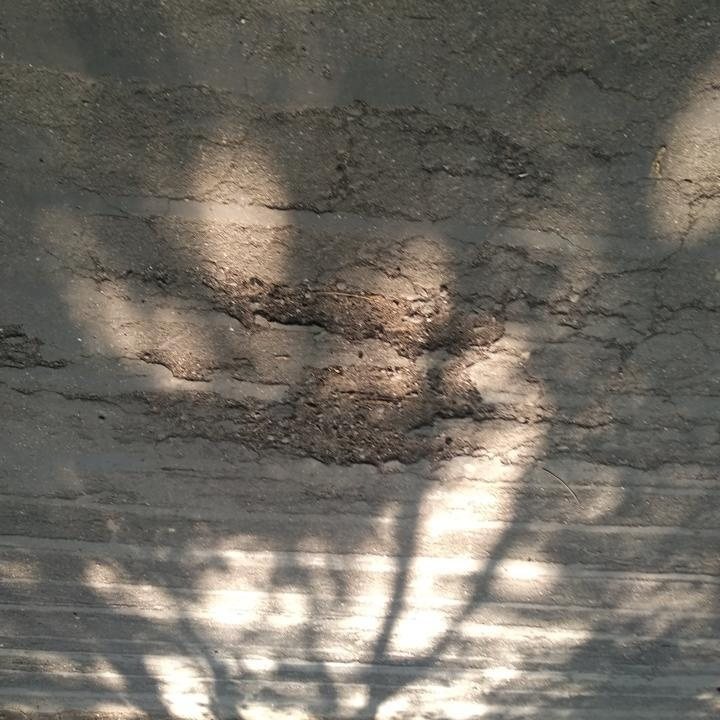pothole: (231, 360, 494, 469), (210, 264, 509, 358)
